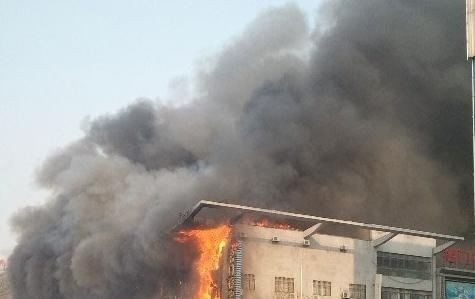fire: (176, 220, 233, 297), (255, 215, 295, 229)
